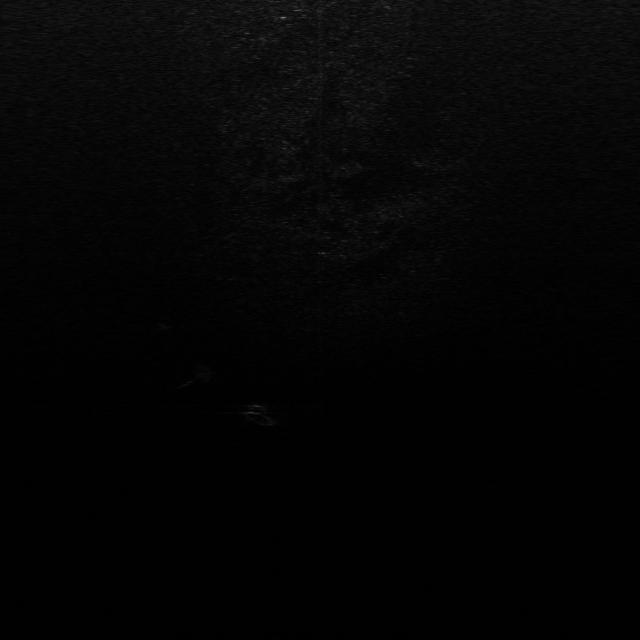ball: (193, 360, 219, 381)
circle cage: (150, 315, 176, 330)
tyre: (240, 404, 280, 426)
